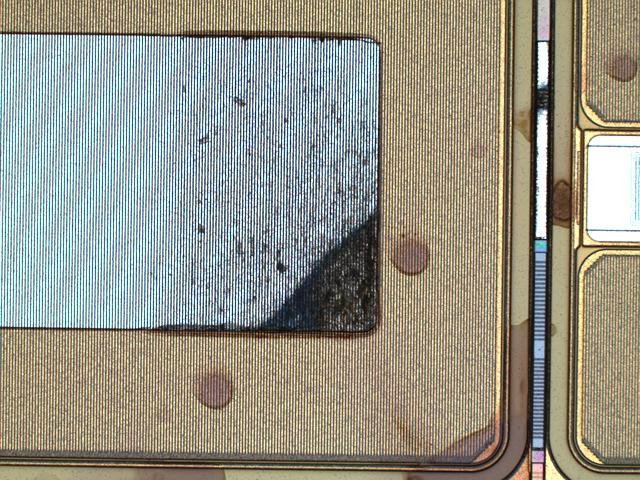SEZ BURNT: (129, 29, 640, 480)
